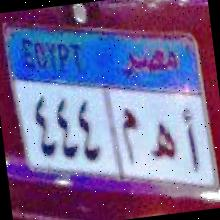4: (72, 92, 106, 168), (50, 91, 80, 165), (30, 86, 59, 160)
alif: (178, 106, 205, 178)
haa: (144, 116, 178, 168)
meem: (116, 100, 144, 168)
